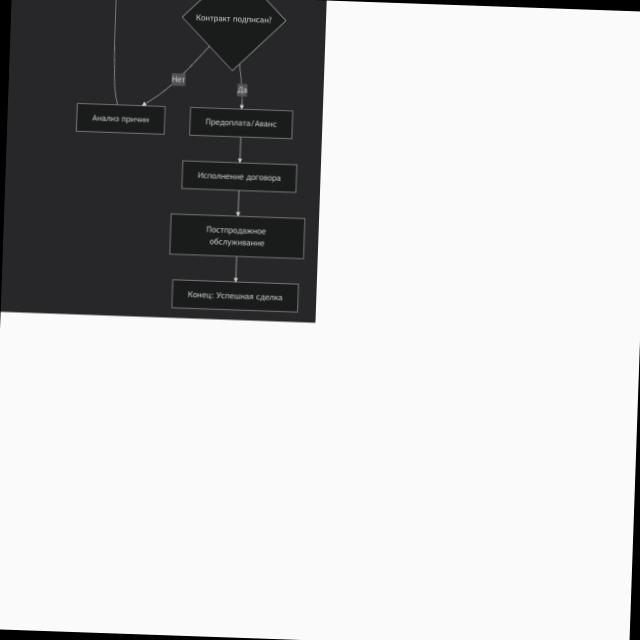arrow: (140, 44, 209, 107), (236, 63, 249, 109), (236, 192, 239, 216), (238, 138, 241, 162), (234, 258, 237, 281)
rectangle: (170, 214, 305, 259), (172, 280, 298, 313), (182, 161, 297, 193), (190, 108, 293, 139), (76, 104, 165, 134)
text_region: (172, 74, 186, 84), (236, 84, 248, 95)
